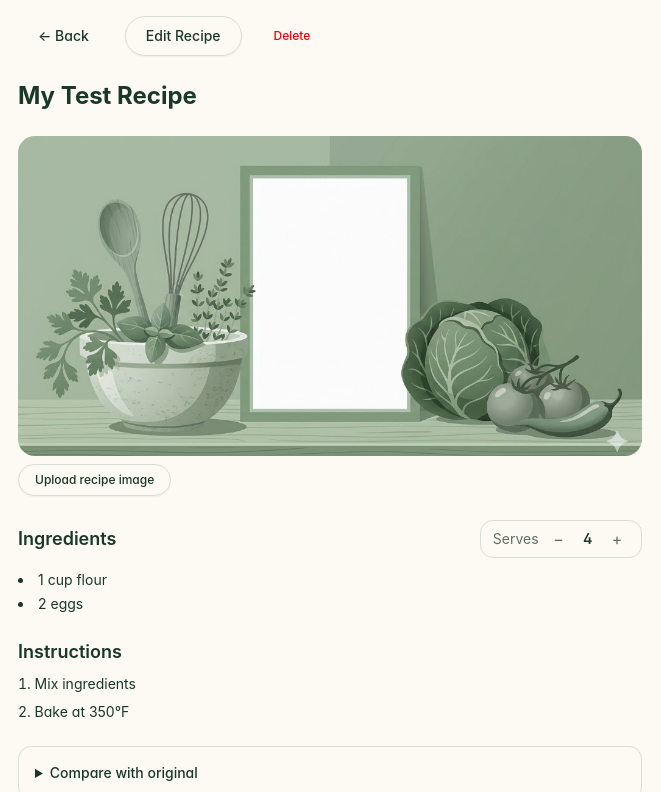
Test: RecipeDetailPage › saves changes and returns to view mode
Expected: the heading "My Test Recipe" is shown, [18, 81, 197, 110]
Click the button "Edit Recipe" at x=183, y=36, box [125, 16, 242, 56]
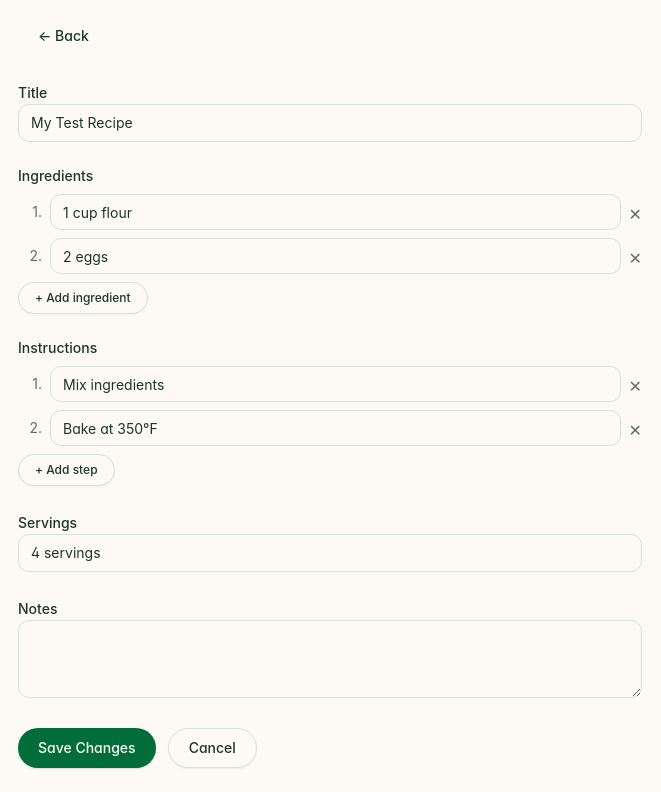
Replace the text in the field labelled "Title" with "Updated Title" at x=330, y=123, box [18, 104, 642, 142]
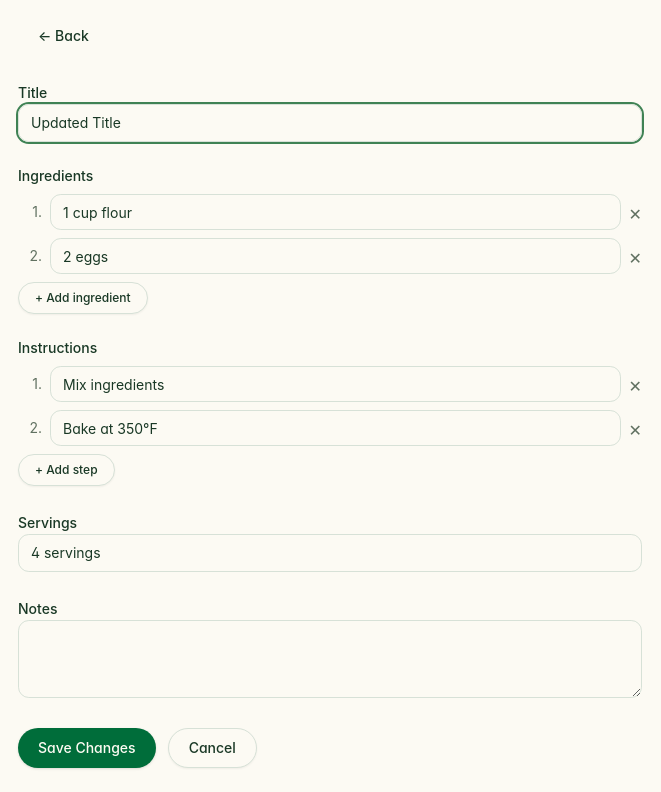
Click the button "Save Changes" at x=87, y=748, box [18, 728, 156, 768]
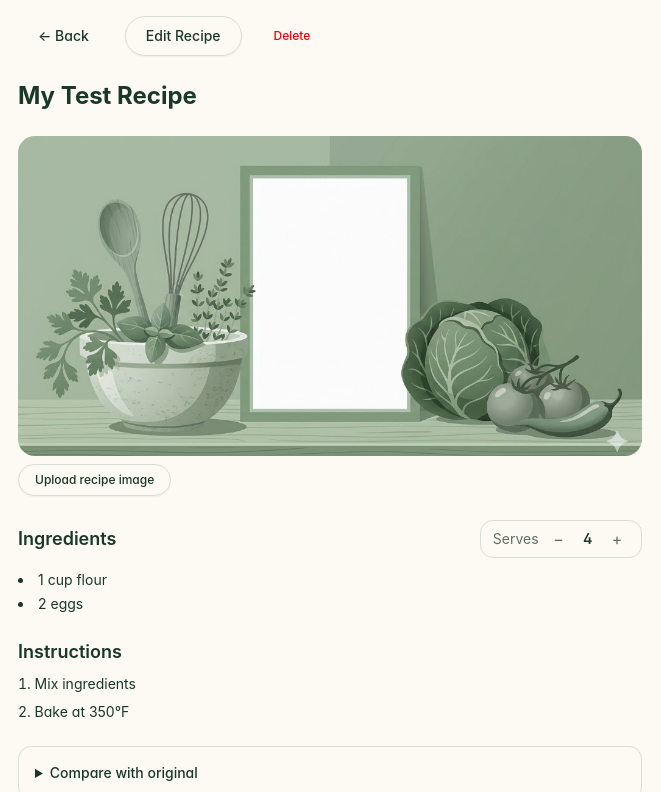
Expected: the button "Edit Recipe" is shown, [125, 16, 242, 56]
Expected: the label labelled "Title" is gone
